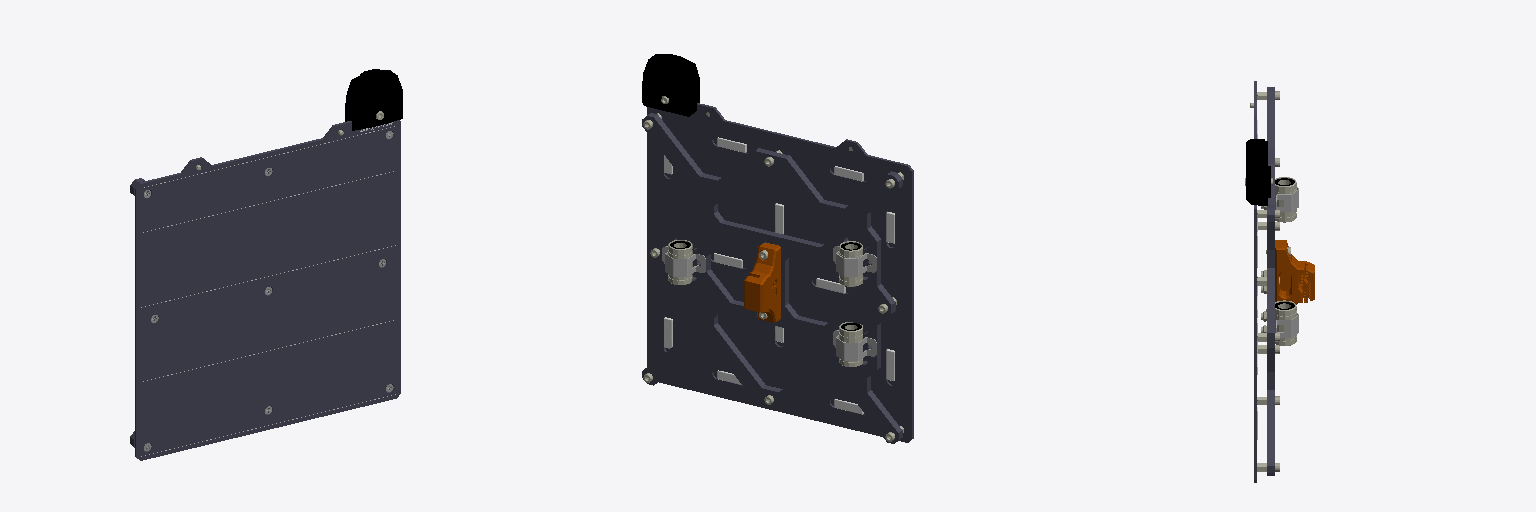
The model's file is Mini_Y.obj.
3 renders of one model, left to right at view 1: azimuth 30°, elevation 25°; view 2: azimuth 150°, elevation 25°; view 3: azimuth 270°, elevation 25°, orthographic.
Parts seen in each view (by area): view 1: Prusa_Mini; view 2: Prusa_Mini; view 3: Prusa_Mini.
Boxes of the visible parts, <box> form: Prusa_Mini: <box>130,69,402,460</box>; Prusa_Mini: <box>642,54,913,443</box>; Prusa_Mini: <box>1245,81,1314,482</box>.
Size of the model in its own units: 186 by 220 by 42.3.